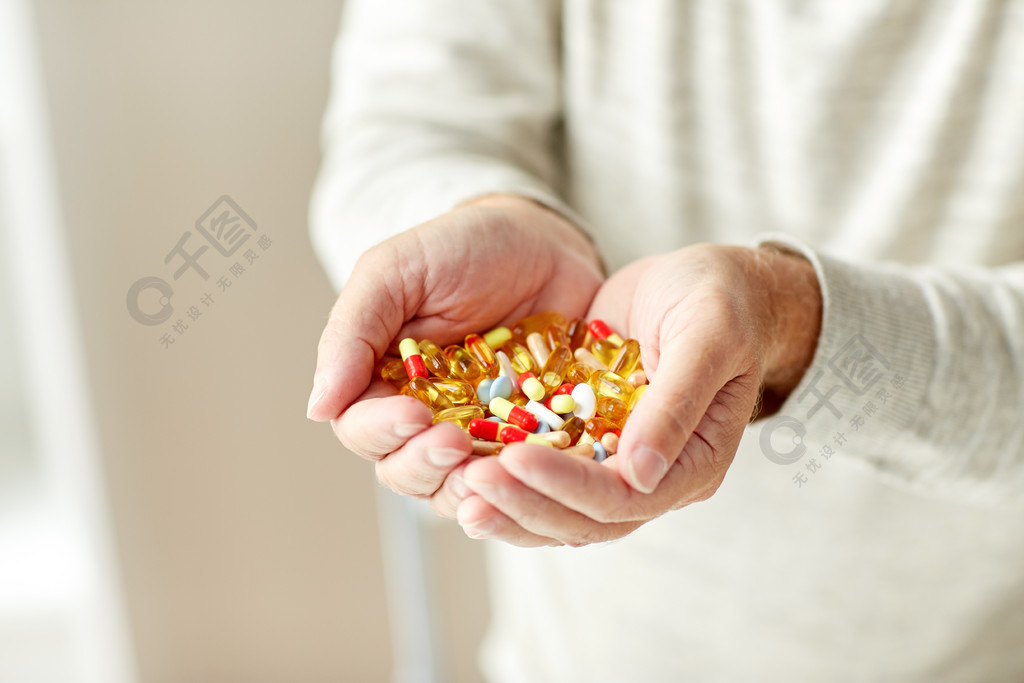no-phone: (301, 191, 780, 553)
